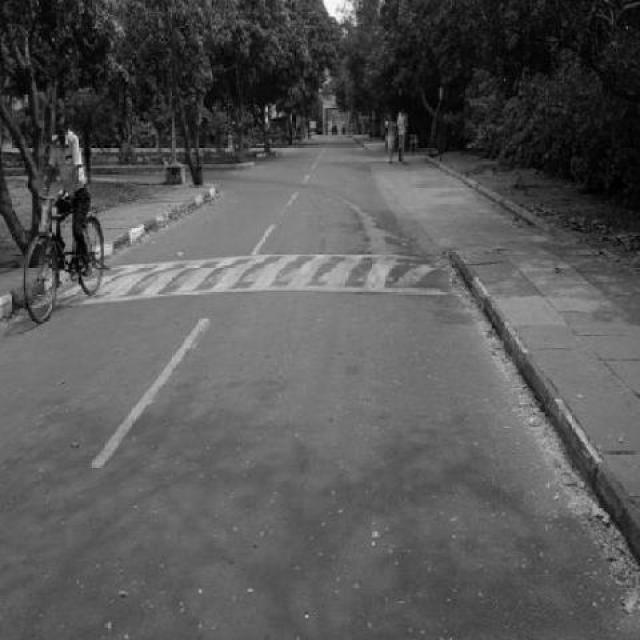Speed Bump: (112, 253, 455, 300)
